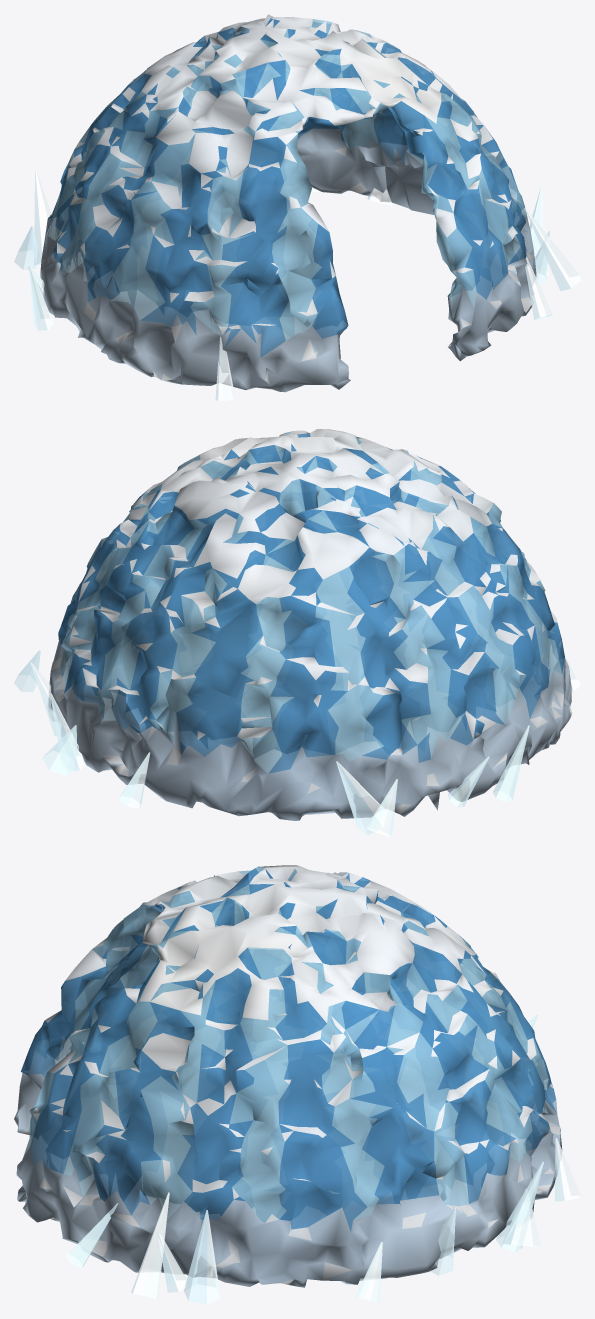
The model's file is frost_rime_dome.glb.
3 renders of one model, top to bottom at view 1: azimuth 30°, elevation 25°; view 2: azimuth 150°, elevation 25°; view 3: azimuth 270°, elevation 25°, orthographic. The views are drawn at different scales.
Parts seen in each view (by area): view 1: frost_rime_dome; view 2: frost_rime_dome; view 3: frost_rime_dome.
Part boxes in pixels (box(x1,y1,x2,y2)): frost_rime_dome: box(14, 14, 580, 400); frost_rime_dome: box(14, 429, 580, 836); frost_rime_dome: box(14, 865, 580, 1304).
Size of the model in its own units: 35.81 by 18.54 by 32.8.
